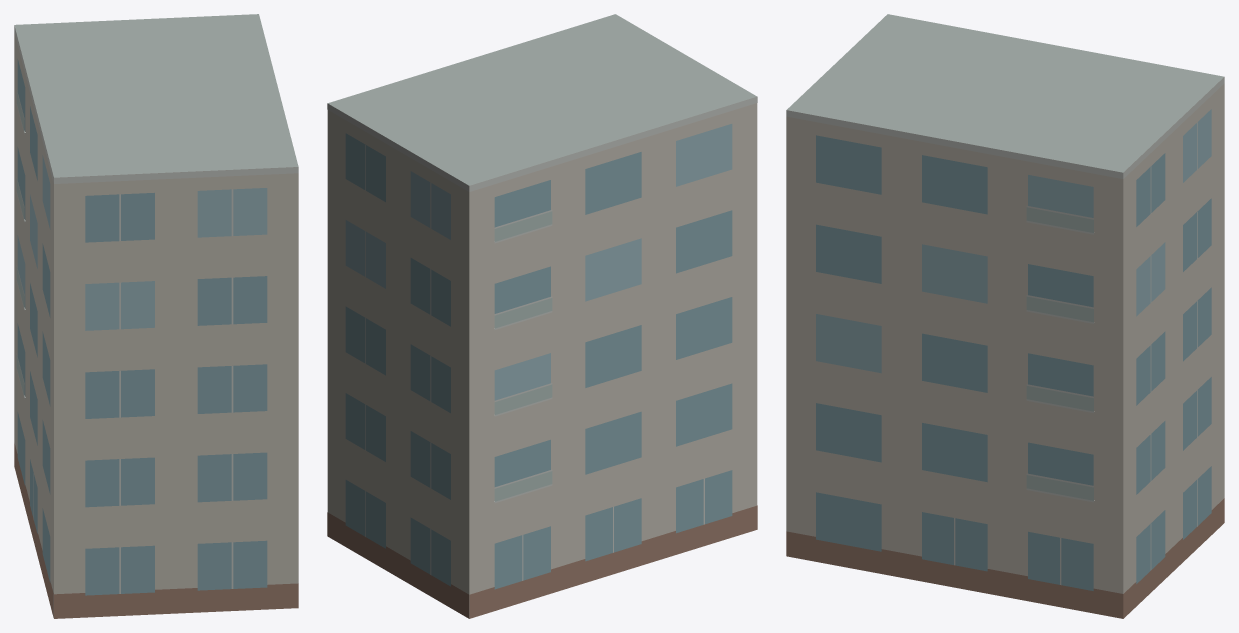
File: survey-upis-32524946.glb
The picture shows the model from 3 angles, left to right: view 1: azimuth 30°, elevation 25°; view 2: azimuth 150°, elevation 25°; view 3: azimuth 270°, elevation 25°; orthographic projection. The views are drawn at different scales.
Visible parts, largest first — view 1: survey-upis-32524946.tmp; view 2: survey-upis-32524946.tmp; view 3: survey-upis-32524946.tmp.
Part boxes in pixels (bbox=[...]): survey-upis-32524946.tmp: bbox=[14, 14, 298, 618]; survey-upis-32524946.tmp: bbox=[327, 14, 757, 618]; survey-upis-32524946.tmp: bbox=[786, 14, 1224, 618].
Bounding box in the file's own units: 12.86 × 16.85 × 15.01.
